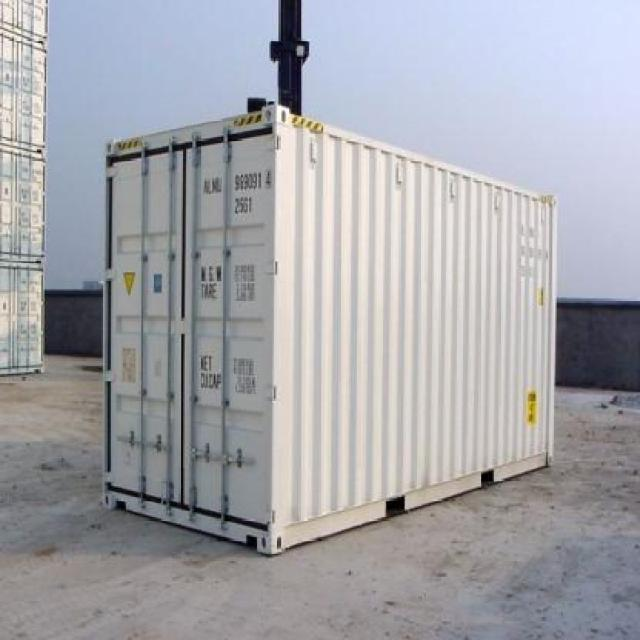ISO: (233, 196, 253, 216)
container_number: (198, 173, 266, 193)
